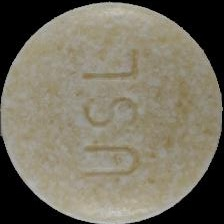0245-0070: (0, 0, 224, 224)
